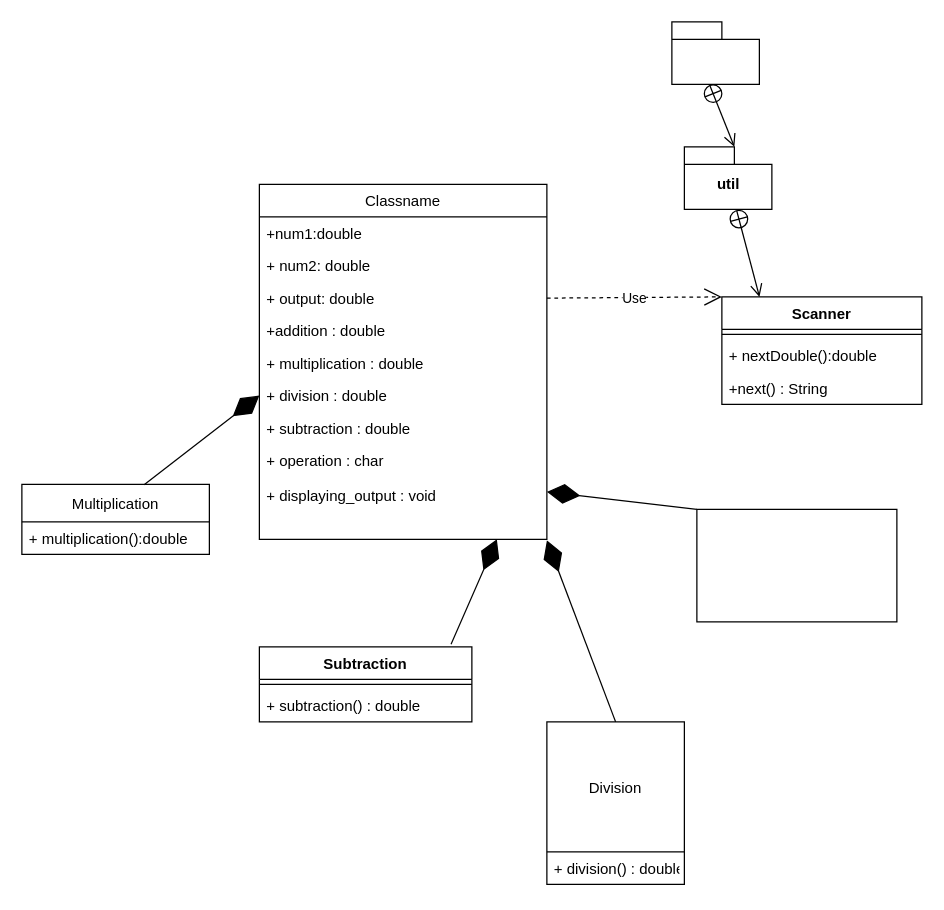
Image size: 944x910. Some labels were removed from this diagram. The centre of each missing label's shape, as x and y in pixels:
"Addition + addition():double" belongs at point (796, 565).
"java" belongs at point (715, 52).
